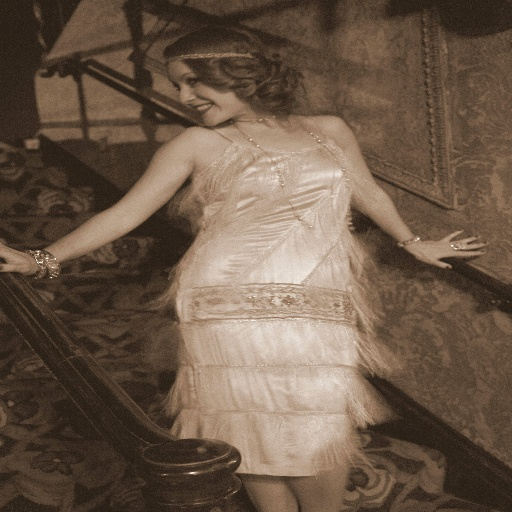hand: (400, 218, 493, 272), (0, 242, 42, 278)
